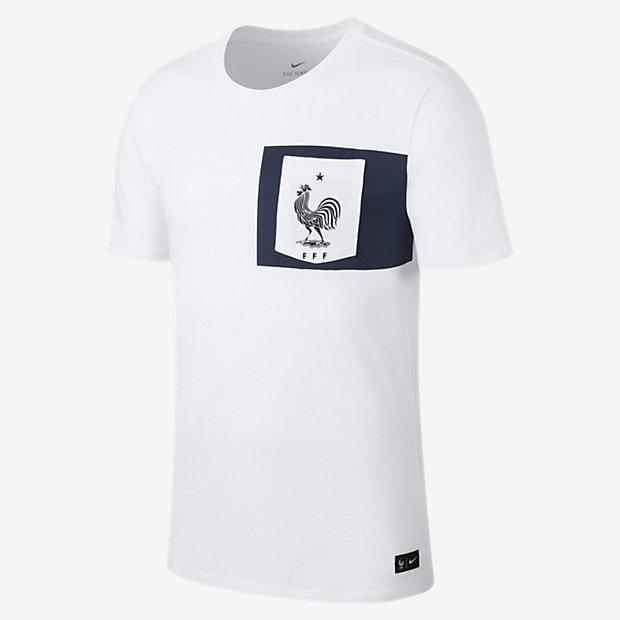teeshirt: (110, 12, 533, 620)
